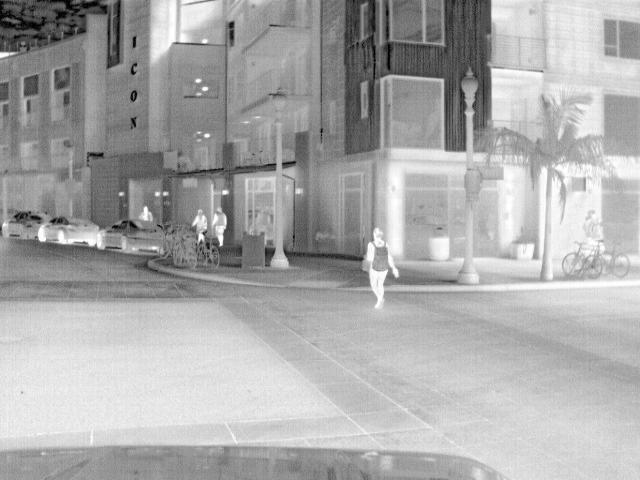car: (98, 221, 166, 254), (37, 214, 98, 246), (2, 212, 48, 240)
person: (364, 228, 398, 310), (210, 208, 229, 249), (255, 207, 271, 247), (192, 206, 210, 238), (586, 208, 601, 238), (136, 206, 156, 222)
